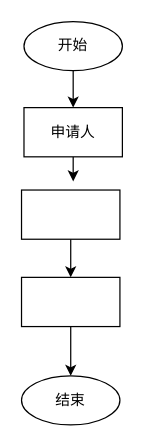
Some shapes in this 144 by 446 pixel diagram are drawn without their labels. Each missing label, with the centre of its shape:
"抄送肖鹏、黎烙华" goes at [70,301].
"接收需求" goes at [70,214].
